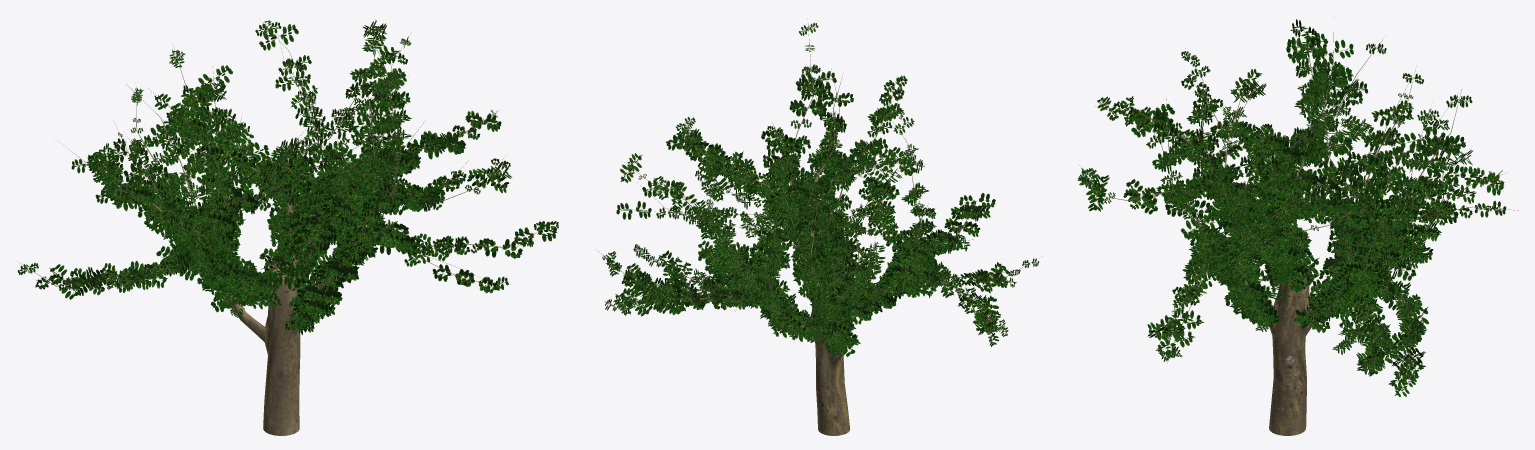
The model's file is tree2.fbx.
3 renders of one model, left to right at view 1: azimuth 30°, elevation 25°; view 2: azimuth 150°, elevation 25°; view 3: azimuth 270°, elevation 25°, orthographic. The views are drawn at different scales.
Parts seen in each view (by area): view 1: tree.005; view 2: tree.005; view 3: tree.005.
Part boxes in pixels (<box>): tree.005: <box>17,18,558,435</box>; tree.005: <box>596,18,1042,435</box>; tree.005: <box>1077,19,1518,435</box>.
Bounding box in the file's own units: 3703 × 3159 × 3052.
